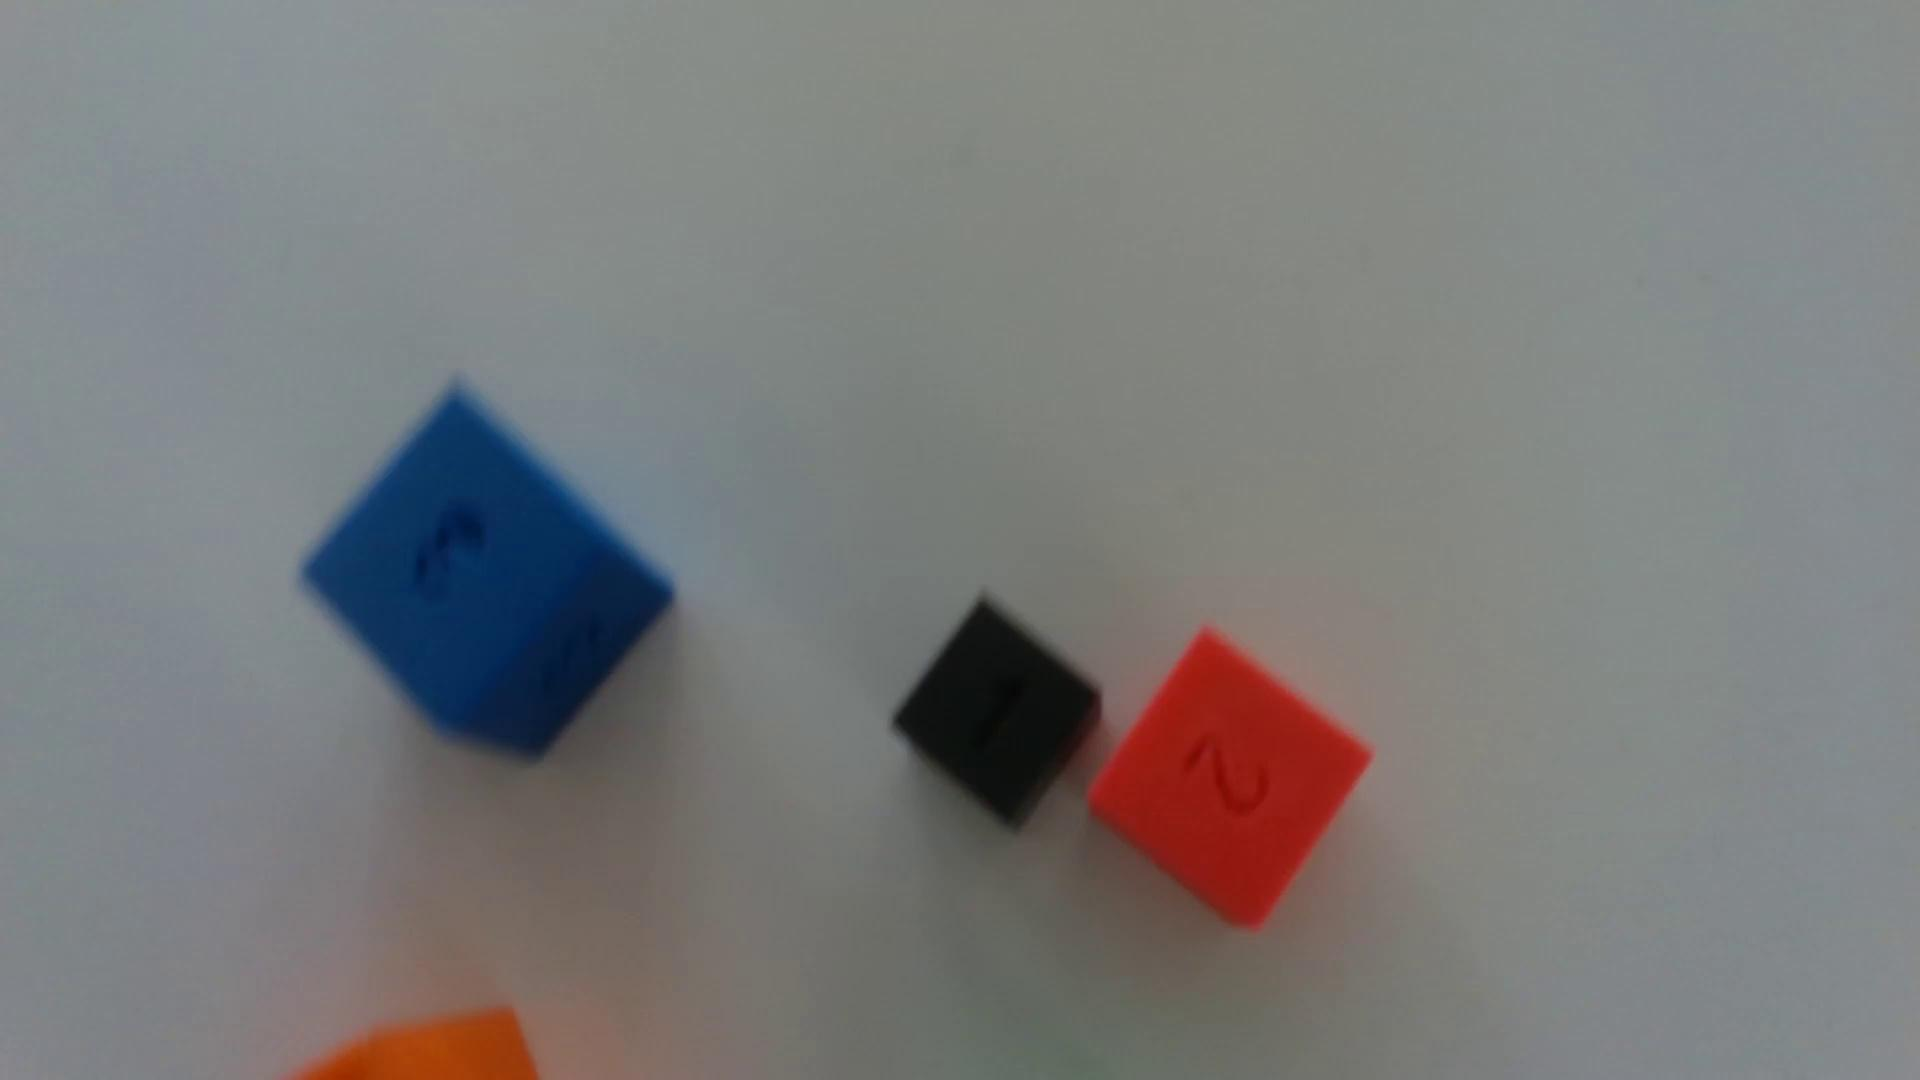black: (893, 599, 1101, 828)
blue: (305, 390, 673, 756)
orange: (295, 1009, 539, 1080)
red: (1087, 632, 1371, 928)
